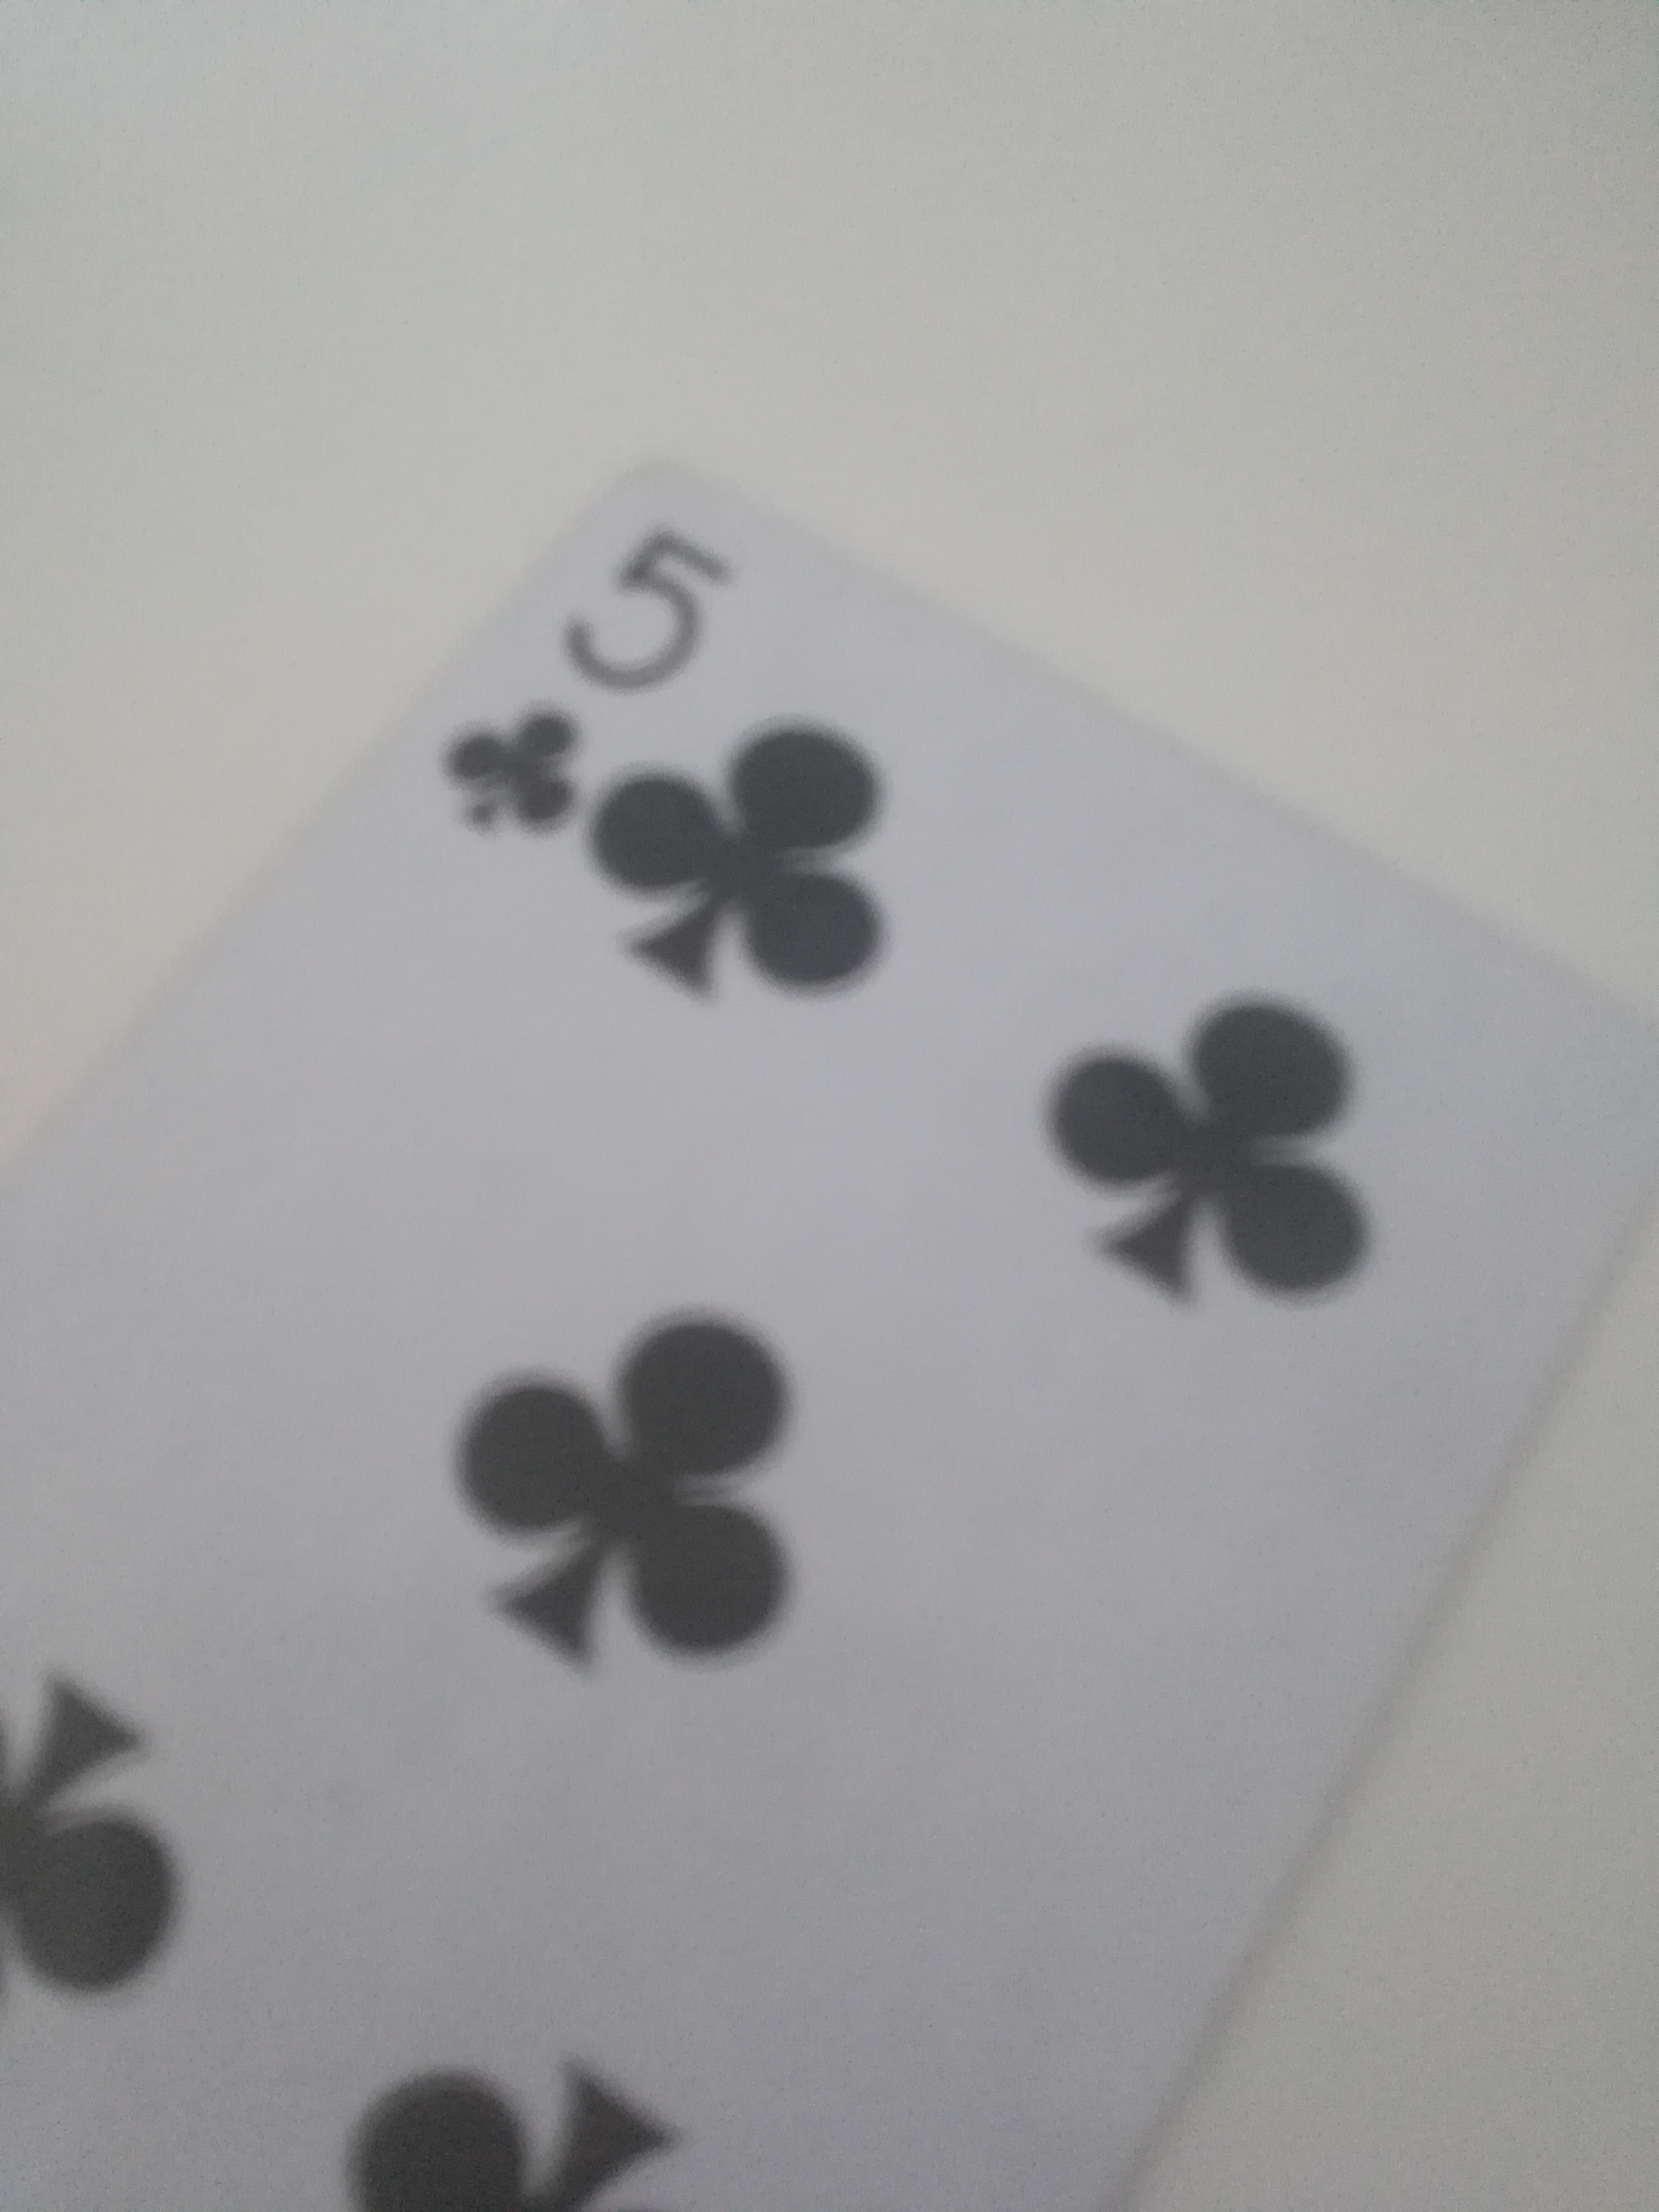5C: (3, 477, 1652, 2212)
